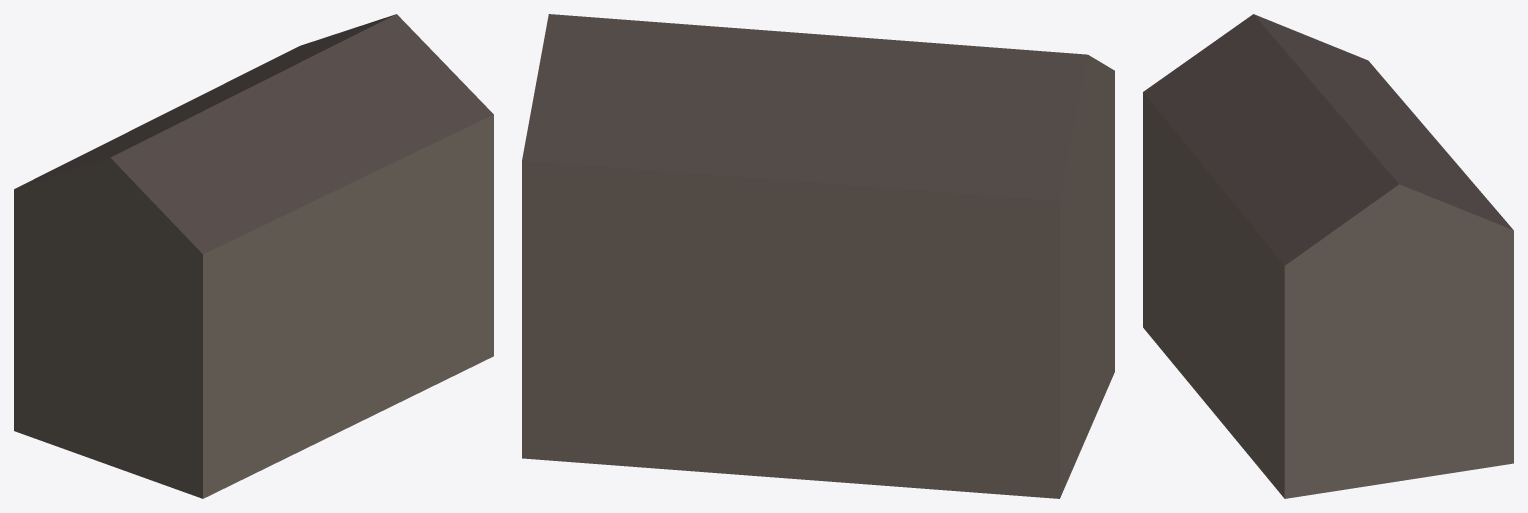
3 views of the same model, side by side, from view 1: azimuth 30°, elevation 25°; view 2: azimuth 150°, elevation 25°; view 3: azimuth 270°, elevation 25° (orthographic). The views are drawn at different scales.
Visible parts, largest first — view 1: HP-w505646892; view 2: HP-w505646892; view 3: HP-w505646892.
Boxes of the visible parts, <box> form: HP-w505646892: <box>14,14,493,498</box>; HP-w505646892: <box>522,14,1114,498</box>; HP-w505646892: <box>1143,14,1513,498</box>.
Size of the model in its own units: 17 by 11.46 by 12.97.
